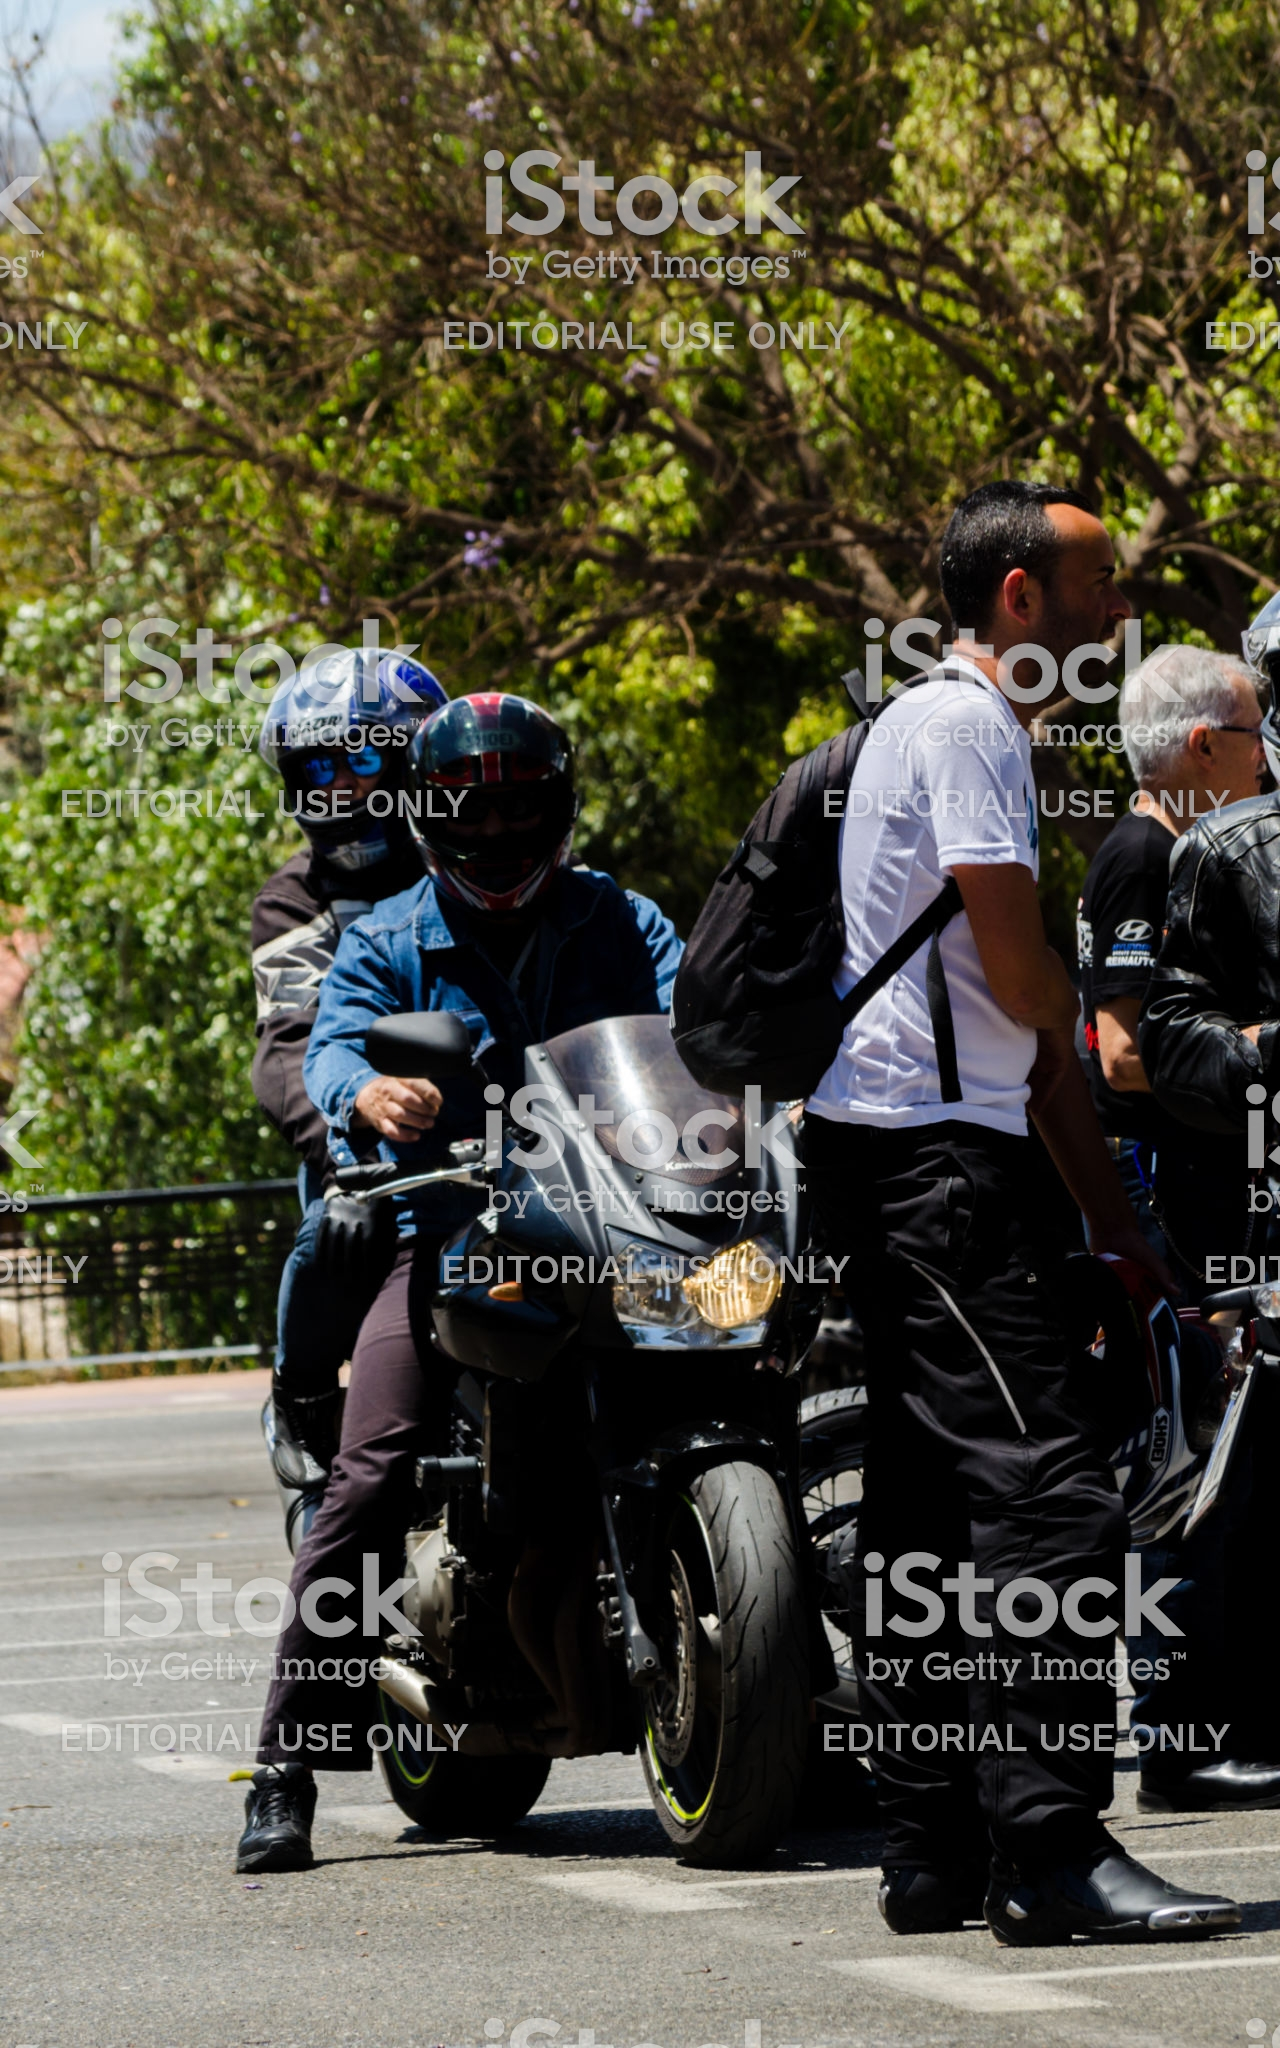helmet: (392, 703, 624, 927), (239, 628, 453, 832)
